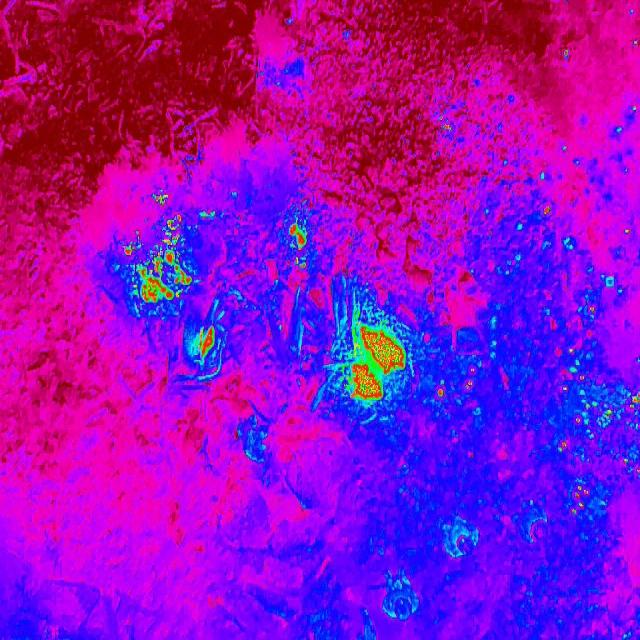fire: (531, 179, 640, 527), (334, 312, 411, 412), (120, 216, 197, 309), (432, 357, 481, 401), (188, 320, 218, 370), (282, 218, 311, 256), (147, 189, 172, 209), (438, 116, 456, 136), (561, 42, 573, 62)
